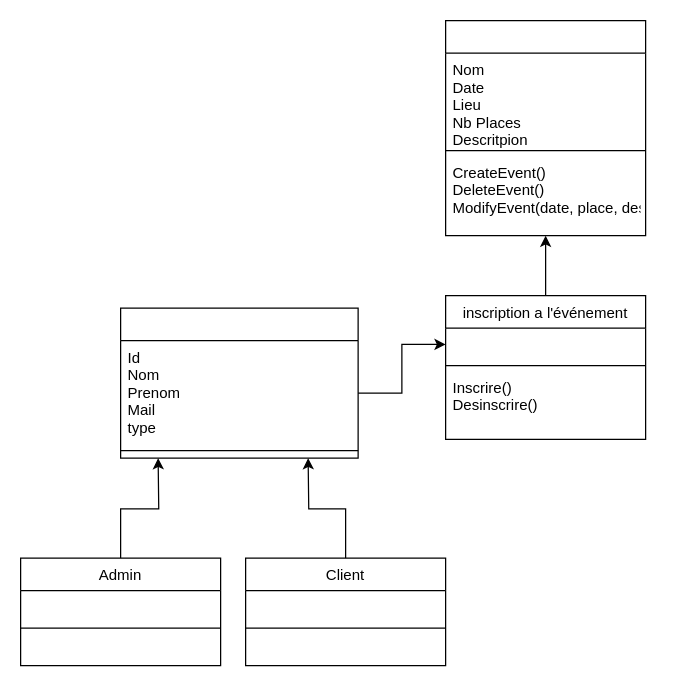
This 679x686 diagram has some shape labels left out. Here are the shapes that lost their labels. From the top down, the box of each, then its label:
(444, 19, 646, 236): Evenement
(119, 307, 358, 458): Utilisateur
